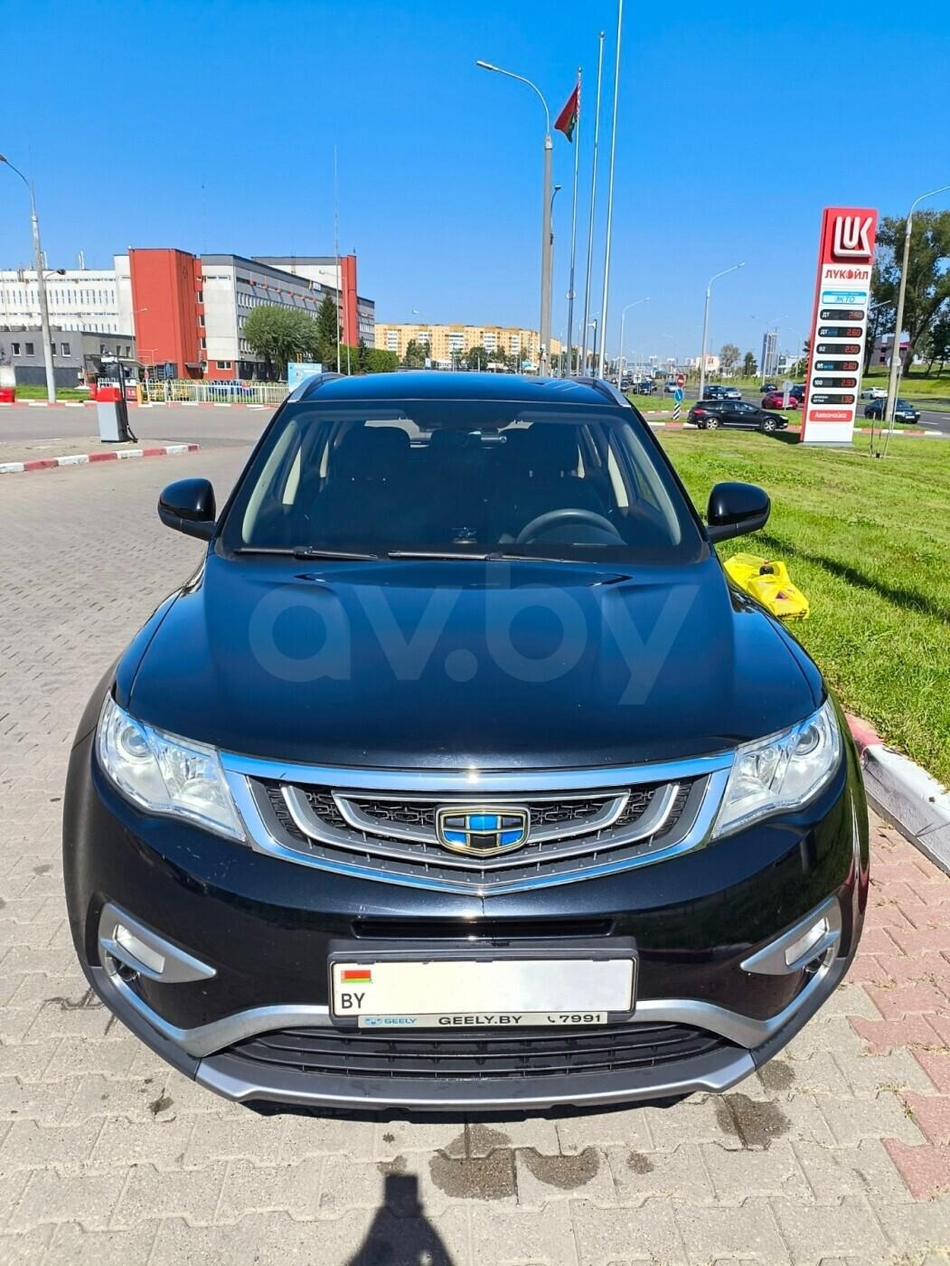Atlas_2016-2023: (51, 365, 870, 1125)
